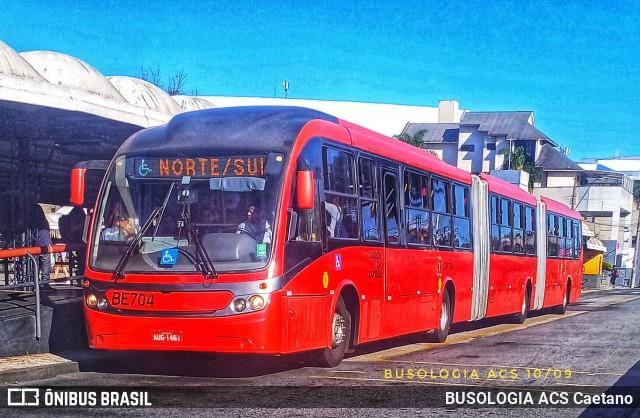NORTE SUL: (156, 155, 268, 179)
